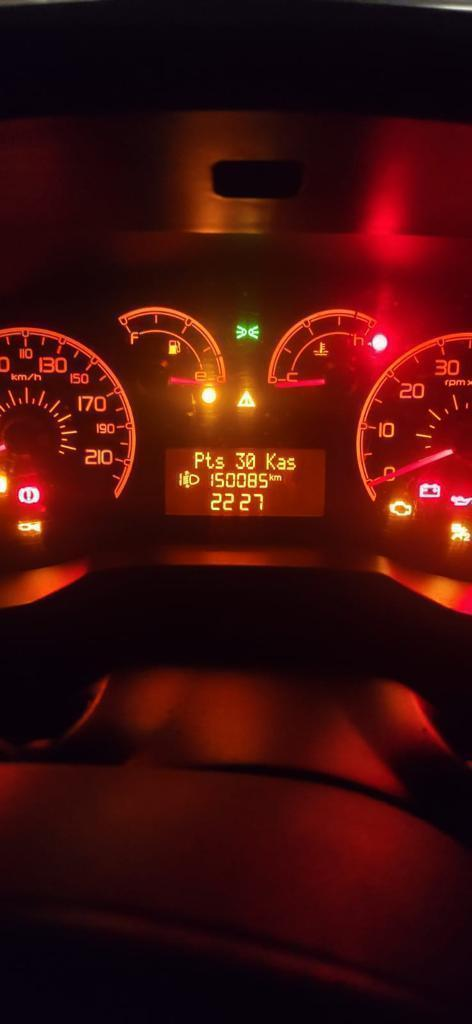0: (246, 451, 256, 470), (225, 472, 235, 488), (236, 472, 246, 488)
1: (208, 471, 214, 487), (177, 471, 182, 487)
2: (222, 492, 234, 511), (239, 492, 251, 511), (210, 491, 221, 510)
3: (234, 451, 245, 470)
5: (214, 471, 224, 488), (258, 472, 268, 488)
7: (253, 492, 264, 511)
8: (247, 471, 257, 488)
X: (204, 450, 214, 469), (194, 450, 204, 468), (266, 452, 275, 470), (286, 456, 296, 471), (214, 455, 224, 469), (277, 456, 285, 470), (274, 474, 282, 481), (269, 472, 273, 481)
odometer: (160, 444, 332, 520)
